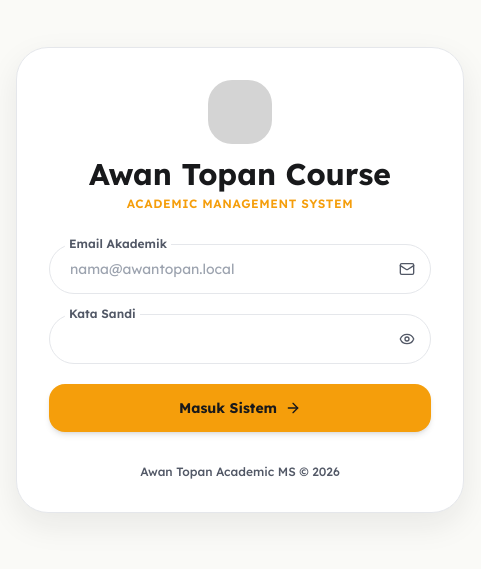
Test case: Login › tidak menampilkan pemilih role dan menunjukkan error backend
Type "admin@example.test" into the field labelled "Email Akademik" at {"x": 240, "y": 269}, box [49, 244, 431, 294]
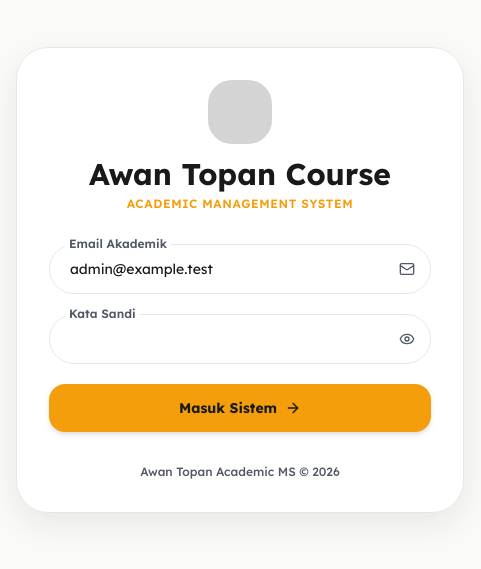
Type "salah" into the password field labelled "Kata Sandi" at {"x": 240, "y": 339}, box [49, 314, 431, 364]
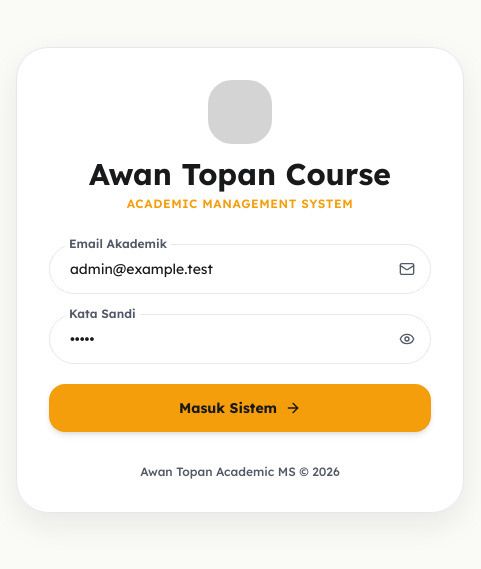
Click the button "Masuk Sistem" at {"x": 240, "y": 408}, box [49, 384, 431, 432]
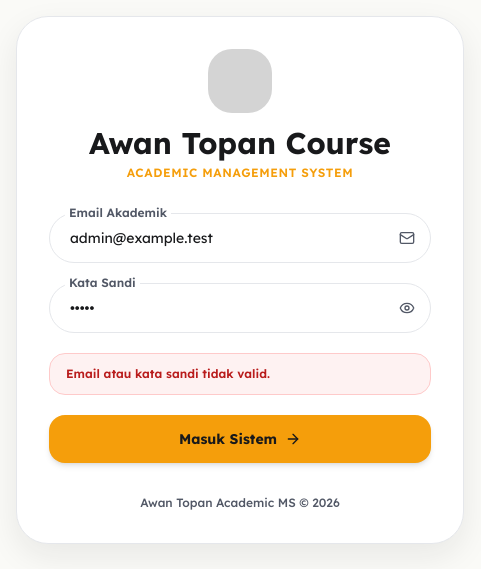
Now the message reads "Email atau kata sandi tidak valid.", box [66, 366, 270, 381]
